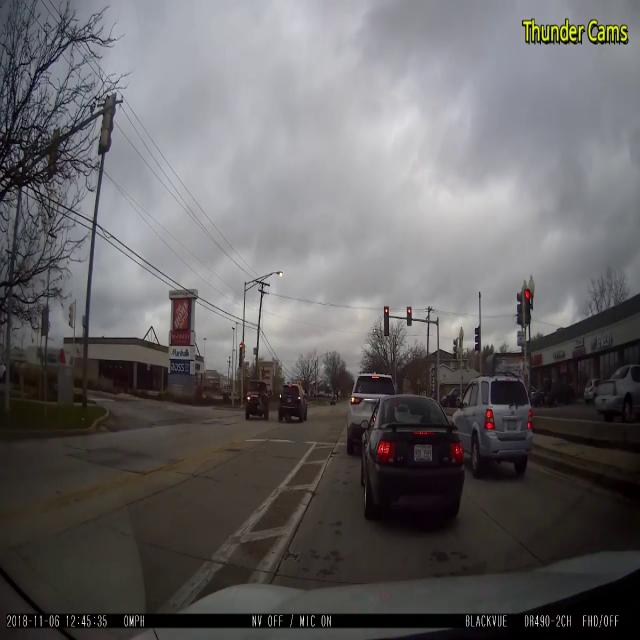accident: (239, 374, 312, 426)
